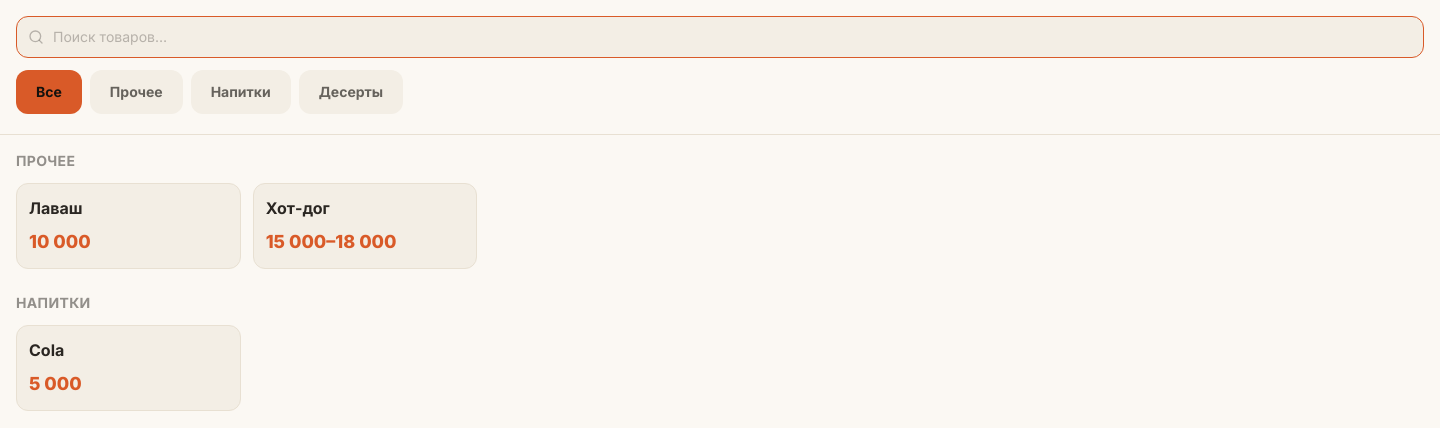
Test: PosMenu — category grouping (Barchasi/Все) › search within Barchasi keeps results grouped by category and hides categories with no match
This screenshot has width=1440, height=428.
Type "лав" into the field with placeholder "Поиск товаров…" at (720, 37), box [16,16,1424,58]
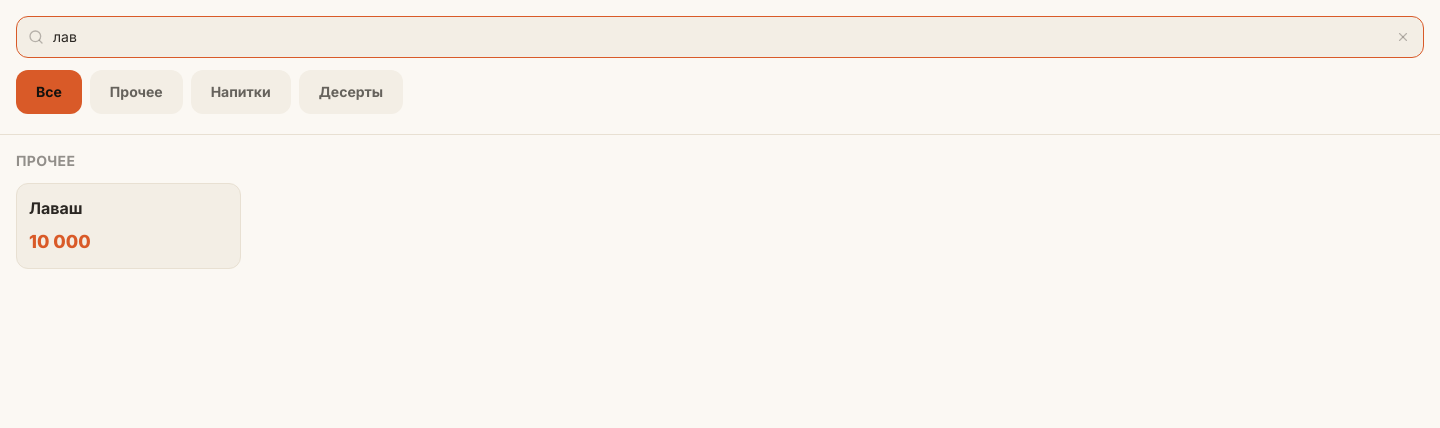
Expected: the headings read "Прочее", in this order, [16,152,75,169]
Expected: the button "Хот-дог" is gone
Expected: the button "Cola" is gone
